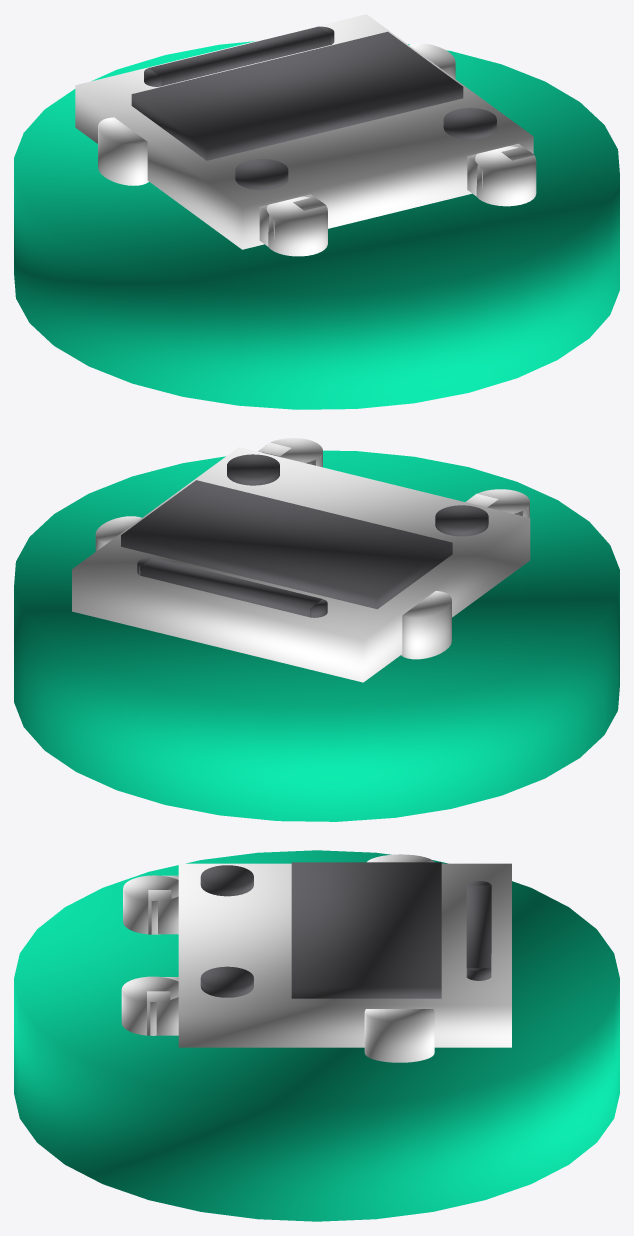
Rendered from busStopHigh.glb.
3 views of the same model, one above another, from view 1: azimuth 30°, elevation 25°; view 2: azimuth 150°, elevation 25°; view 3: azimuth 270°, elevation 25° (orthographic).
Visible parts, largest first — view 1: Node2, Mesh0_1, Mesh0_0; view 2: Node2, Mesh0_1, Mesh0_0; view 3: Node2, Mesh0_1, Mesh0_0.
Boxes of the visible parts, box(x1,y1,x2,y2) form: Node2: box(14, 41, 619, 409); Mesh0_1: box(75, 14, 536, 256); Mesh0_0: box(131, 26, 496, 189); Node2: box(14, 450, 619, 821); Mesh0_1: box(72, 438, 530, 682); Mesh0_0: box(121, 454, 488, 617); Node2: box(14, 850, 619, 1221); Mesh0_1: box(121, 854, 511, 1062); Mesh0_0: box(200, 862, 491, 998).
Size of the model in its own units: 2.6 by 0.812 by 2.6.
